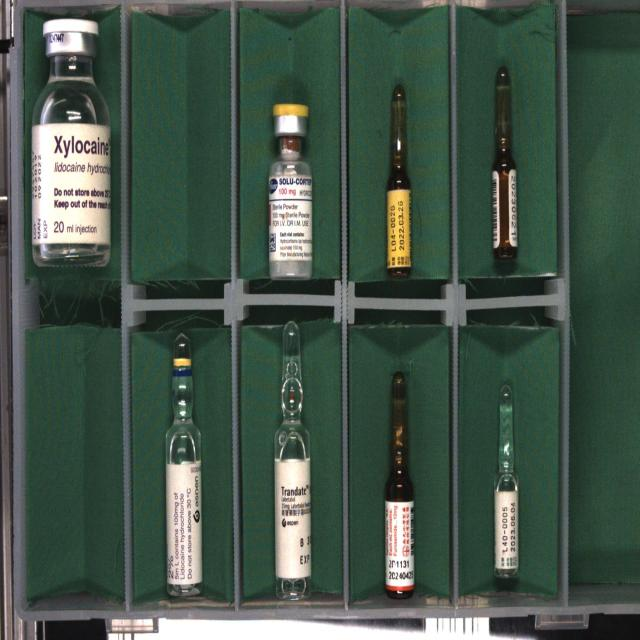Vials: (31, 19, 110, 267), (269, 102, 312, 279)
